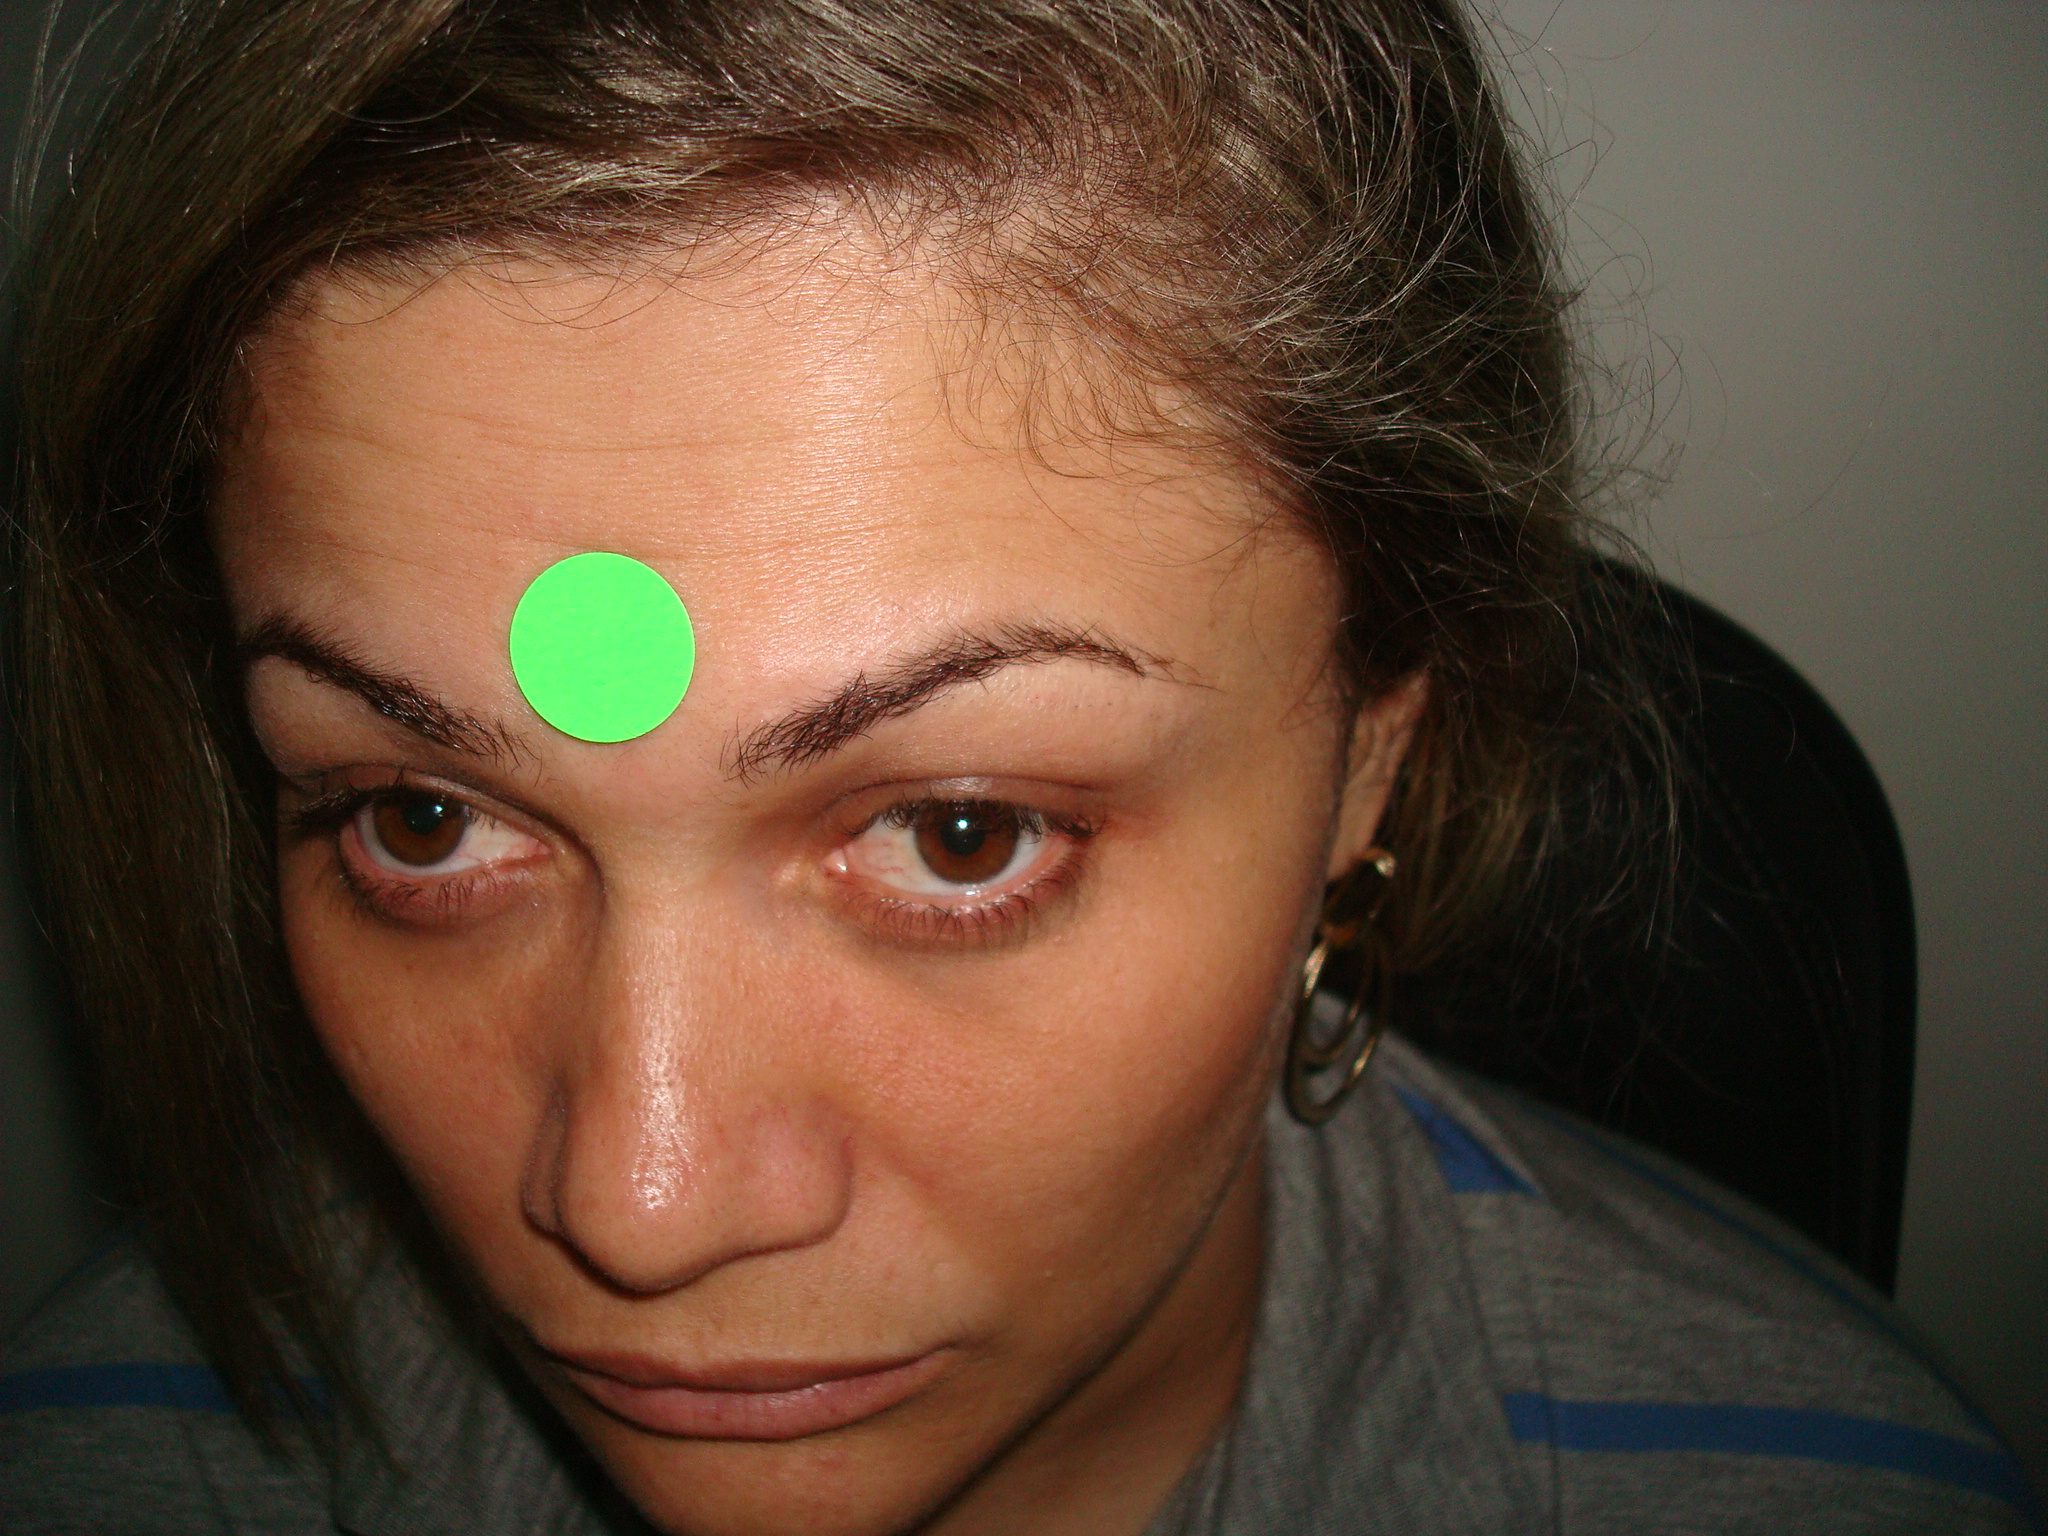flash: (956, 816, 969, 831), (434, 802, 443, 816)
limbo: (914, 792, 1014, 883), (377, 773, 464, 860)
